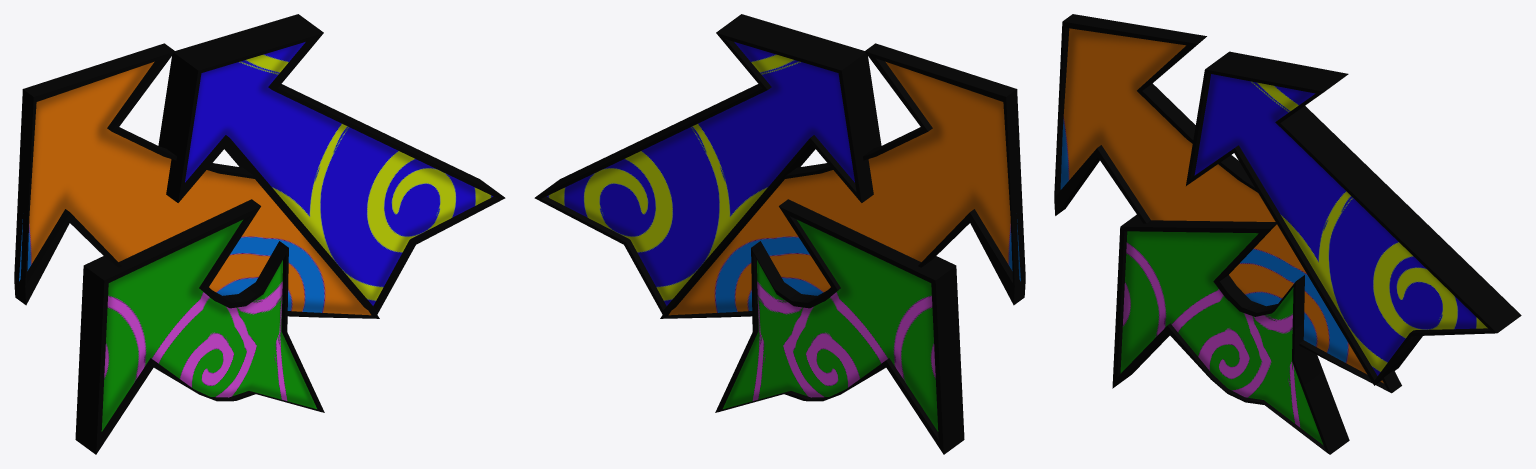
Rendered from MOD_ArrowGroup1.FBX.
3 renders of one model, left to right at view 1: azimuth 30°, elevation 25°; view 2: azimuth 150°, elevation 25°; view 3: azimuth 330°, elevation 25°, orthographic. The views are drawn at different scales.
Visible parts, largest first — view 1: MOD_ArrowGroup1; view 2: MOD_ArrowGroup1; view 3: MOD_ArrowGroup1.
Boxes of the visible parts, <box> form: MOD_ArrowGroup1: <box>14,14,505,454</box>; MOD_ArrowGroup1: <box>534,14,1025,454</box>; MOD_ArrowGroup1: <box>1054,14,1521,454</box>.
Bounding box in the file's own units: 163 × 129 × 15.3.
Materials: 1 (1 with a texture image).
